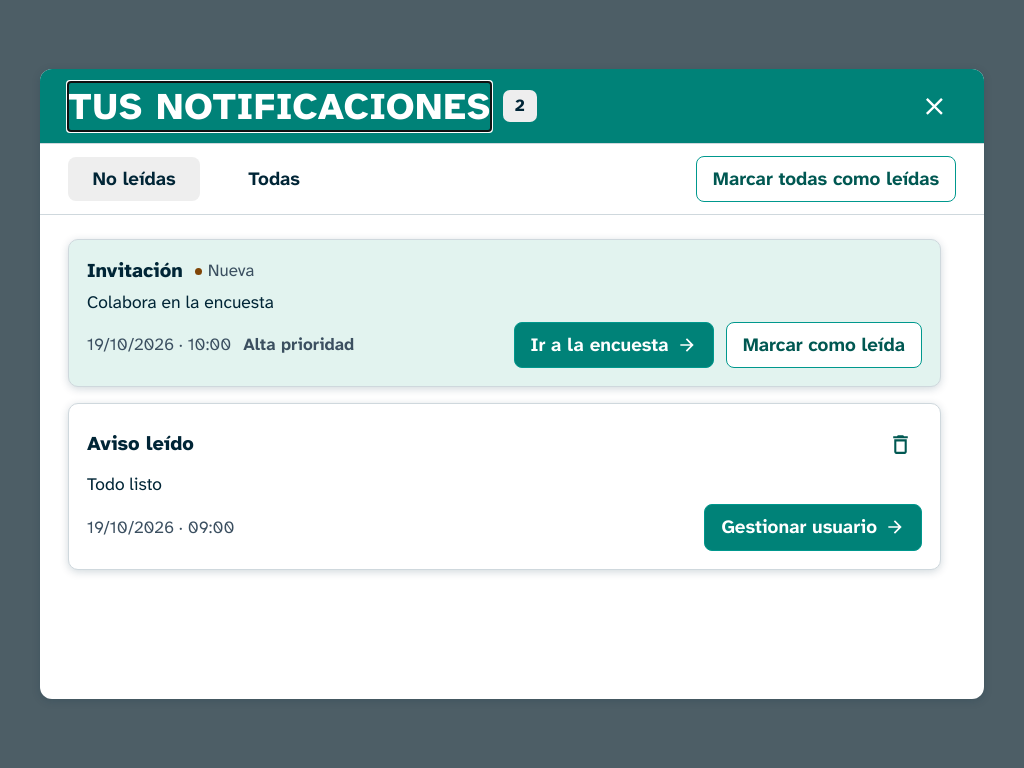
Test: NotificationsModal › marca todas y navega al destino de una notificación
Check: the heading "Invitación" is shown, box [87,258,183,284]
Click the button "Marcar todas como leídas" at (826, 179), box [696,156,956,202]
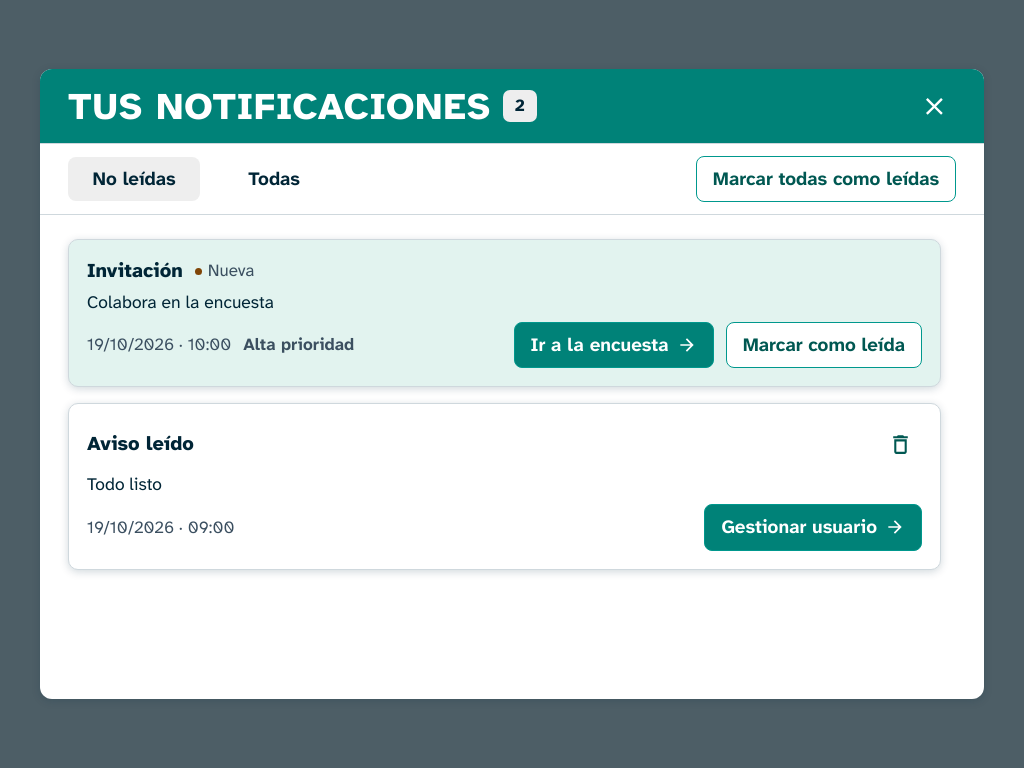
Click the button "Ir a la encuesta" at (614, 345), box [514,322,714,368]
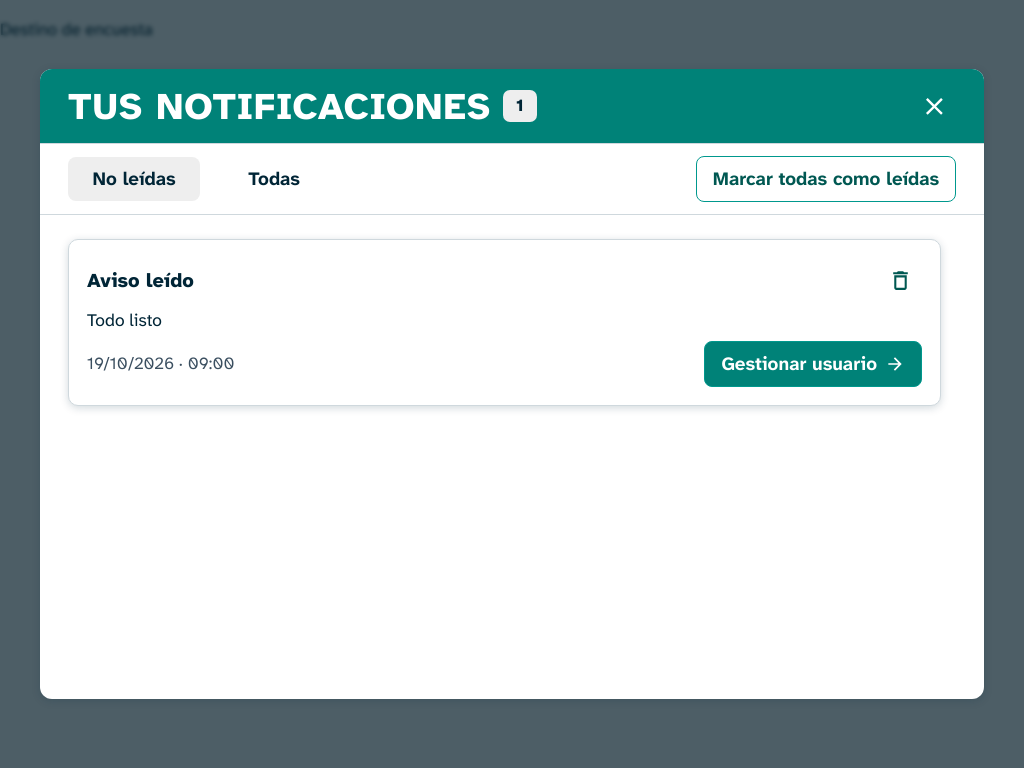
Check: the text "Destino de encuesta" is shown, box [0,18,153,40]
